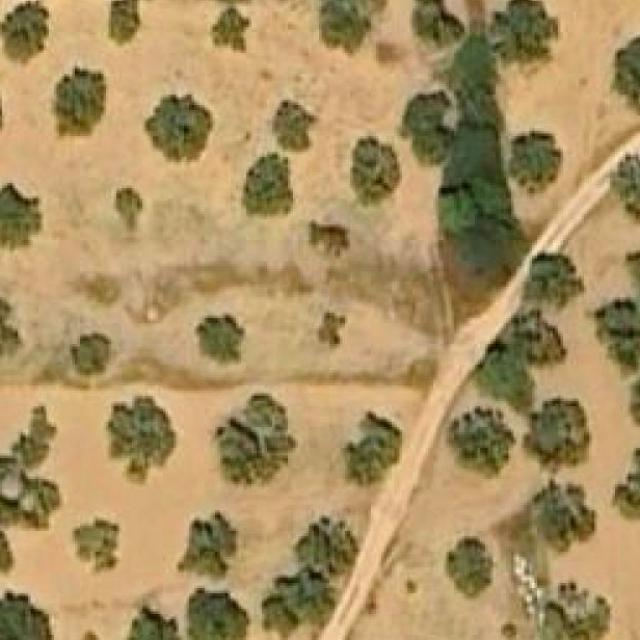Tree: (215, 393, 298, 484), (106, 396, 177, 484), (260, 572, 336, 638), (145, 95, 213, 165), (342, 412, 402, 488), (456, 406, 516, 479), (52, 66, 109, 142), (525, 484, 587, 547), (524, 401, 582, 467), (179, 513, 239, 576), (350, 134, 400, 207), (318, 0, 383, 55), (490, 0, 547, 61), (594, 297, 640, 370), (402, 95, 452, 162), (545, 588, 608, 640), (0, 0, 49, 66), (522, 253, 578, 310), (243, 155, 293, 217), (446, 539, 494, 602), (298, 514, 353, 568), (509, 131, 561, 188), (0, 183, 44, 248), (187, 588, 242, 640), (501, 314, 558, 364), (272, 94, 322, 150), (72, 518, 120, 576), (407, 0, 459, 53), (0, 590, 54, 640), (612, 32, 640, 116), (612, 446, 640, 524), (198, 316, 245, 362), (610, 155, 640, 220), (436, 191, 478, 232), (109, 0, 140, 49), (309, 222, 350, 259), (129, 611, 181, 640), (73, 334, 109, 375), (215, 11, 246, 53), (627, 366, 640, 436), (319, 313, 345, 347), (116, 186, 142, 212)
